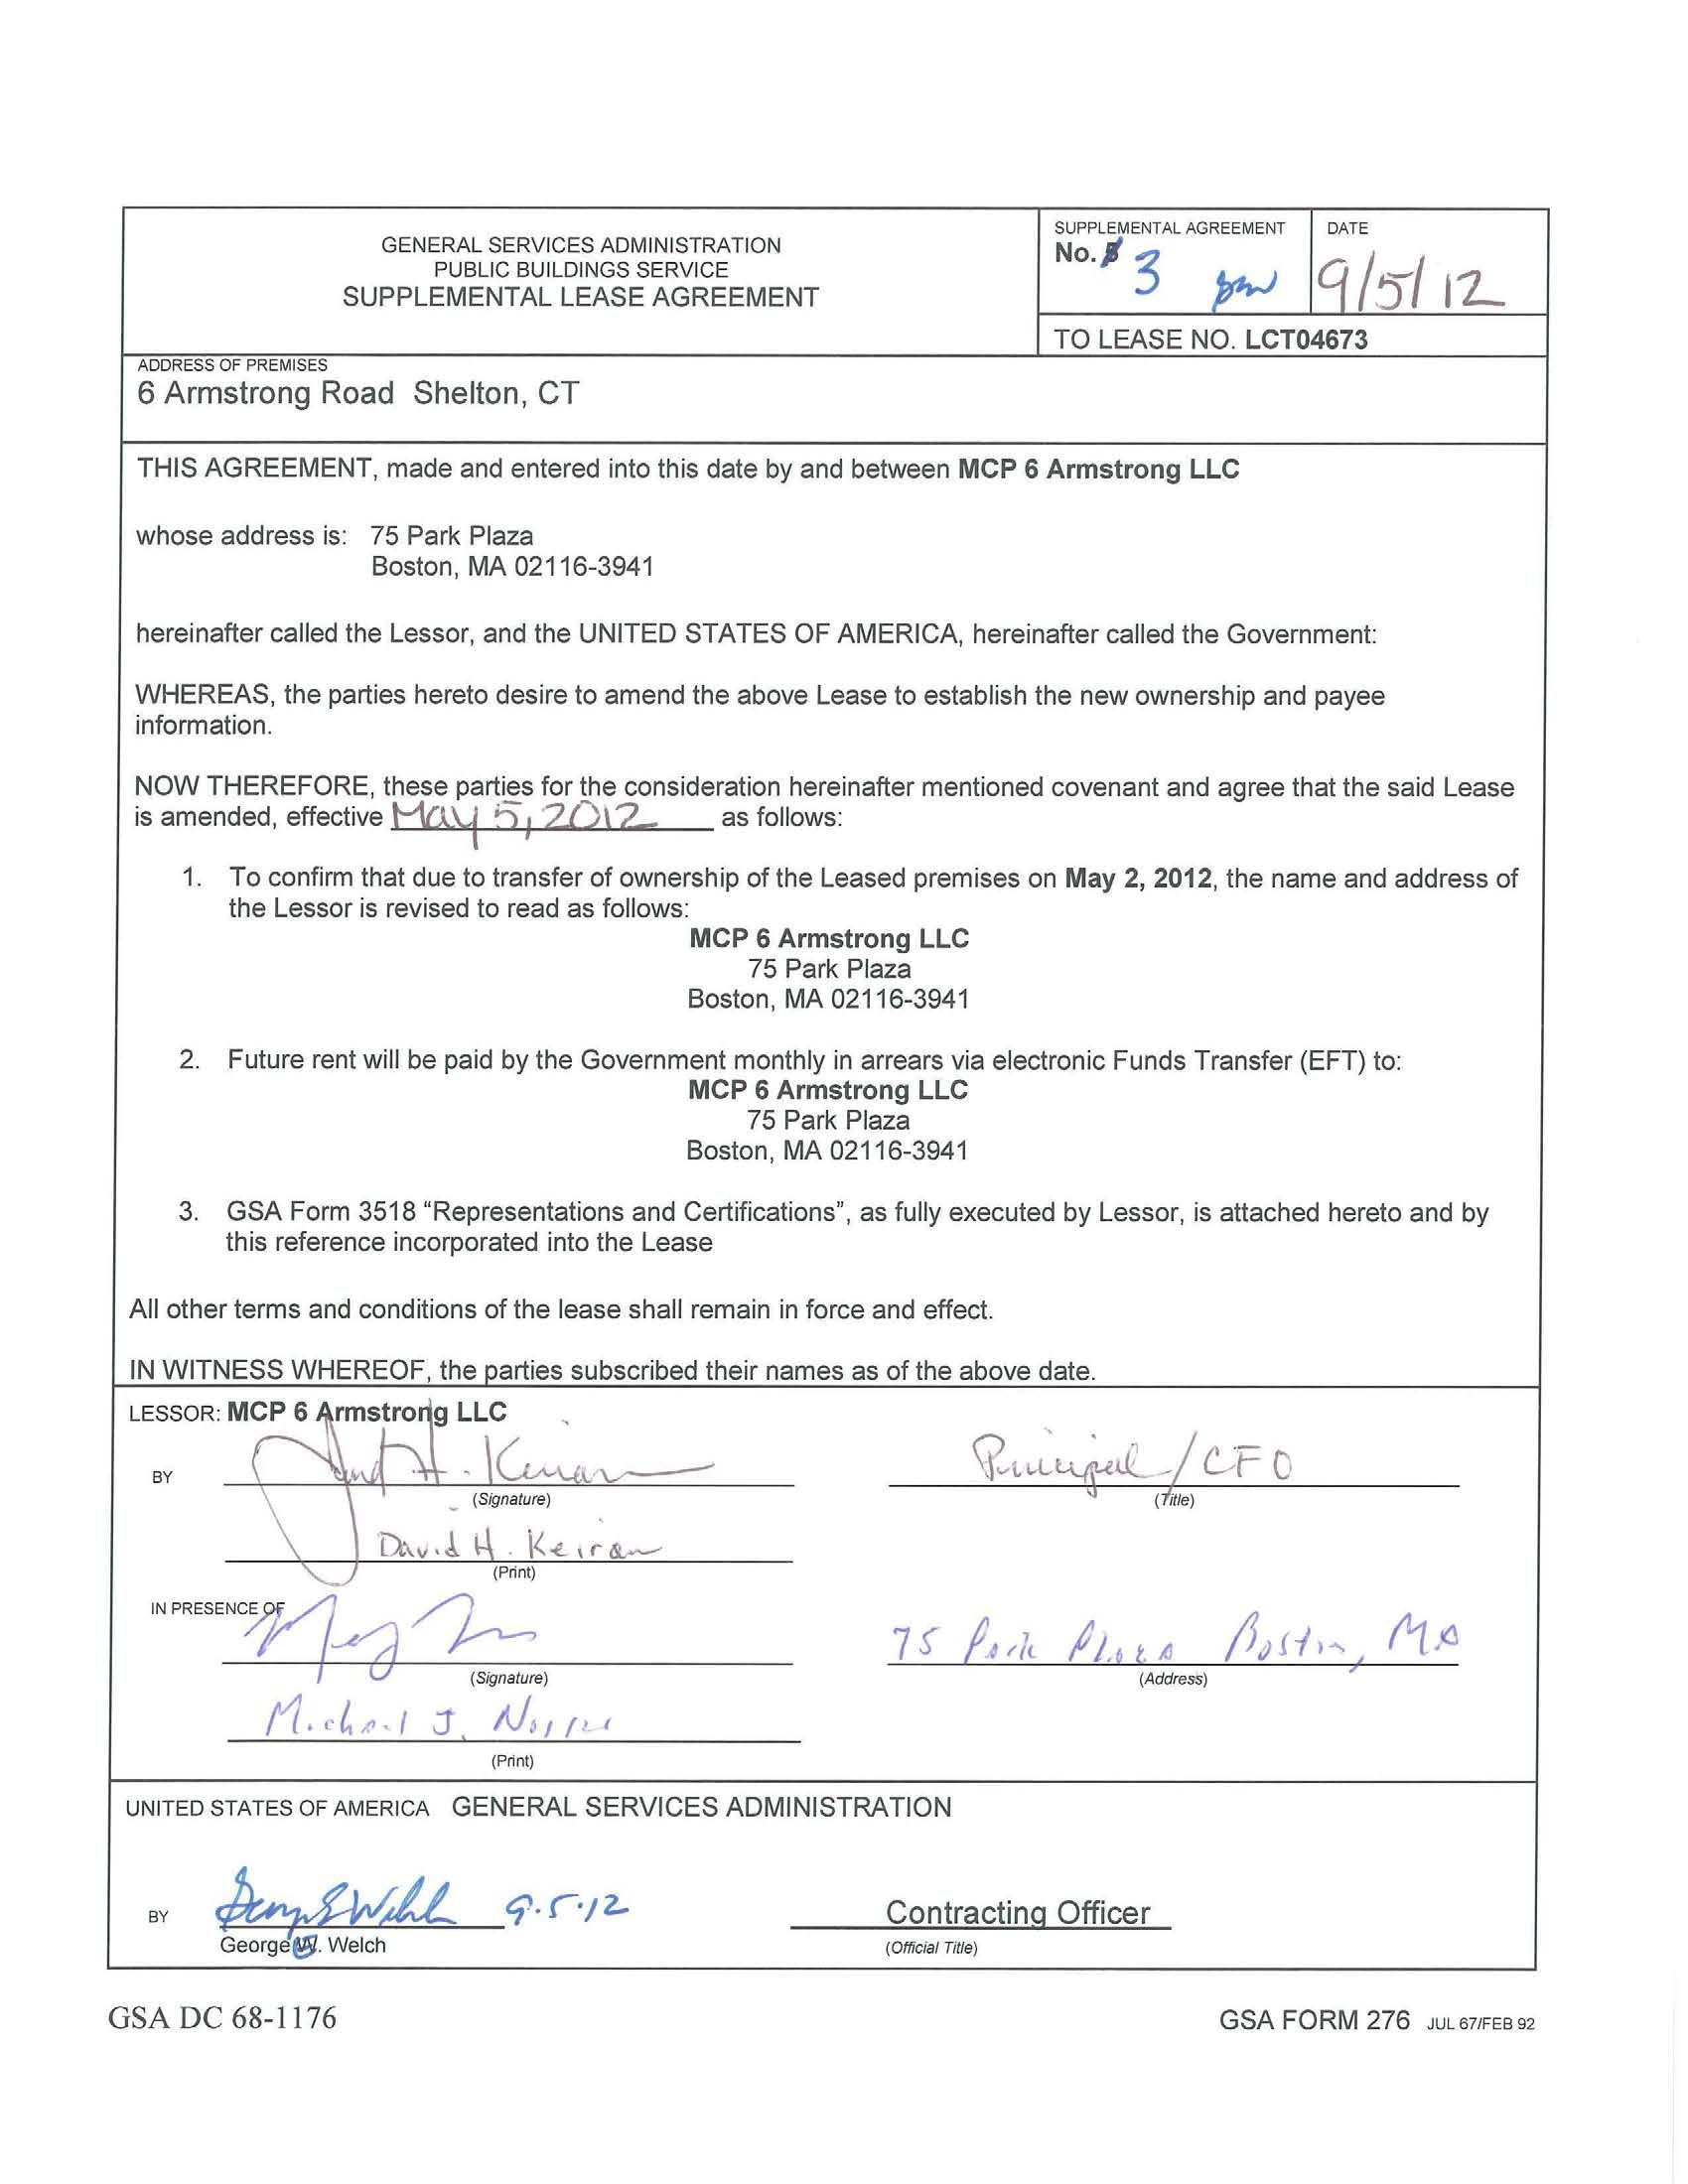handwritten: (867, 1592, 1484, 1668), (223, 1429, 755, 1486), (254, 1487, 665, 1558), (943, 1416, 1325, 1491), (231, 1686, 637, 1755), (211, 1838, 468, 1941), (239, 1618, 692, 1659), (285, 1581, 544, 1652), (1310, 238, 1525, 312), (486, 1876, 651, 1925), (1200, 255, 1289, 321), (1128, 238, 1165, 305)
